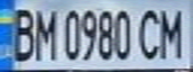0: (57, 4, 81, 61), (112, 4, 136, 61)
8: (97, 4, 118, 61)
9: (78, 5, 100, 62)
B: (6, 3, 39, 63)
C: (136, 3, 163, 61)
M: (154, 3, 190, 60), (30, 3, 60, 62)
